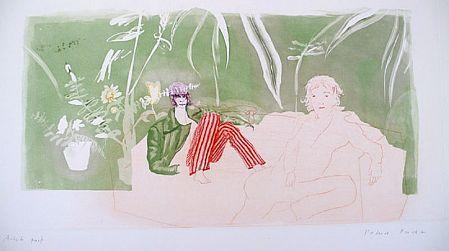person: (247, 76, 385, 219), (144, 73, 274, 185)
